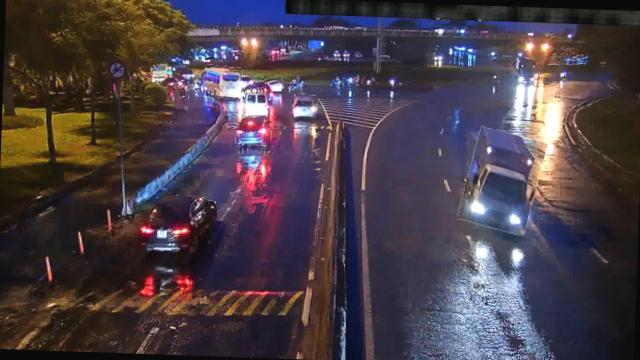Bus: (203, 66, 242, 100)
Car: (236, 113, 272, 146), (294, 94, 318, 117), (266, 76, 284, 91)
Truck: (461, 129, 544, 234)
